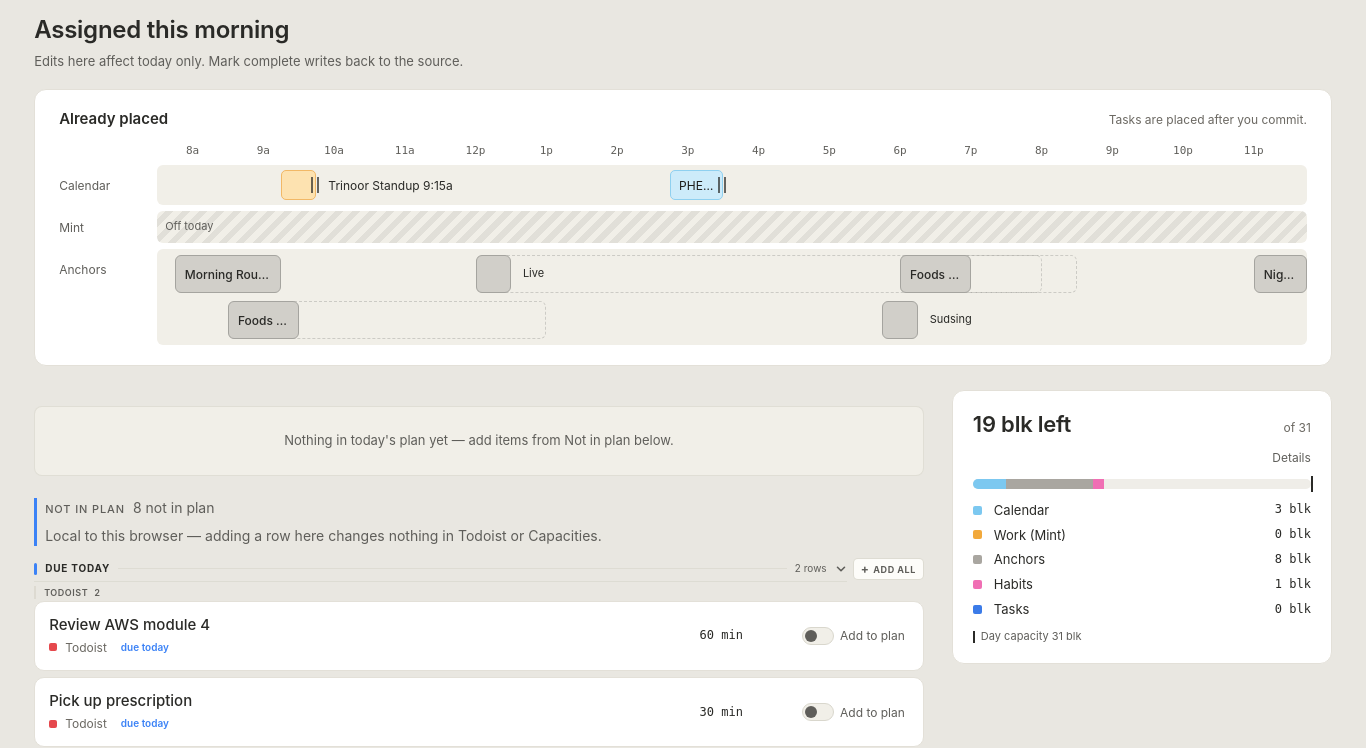
Test: U3a: an empty plan says how to fill it › clears the prompt as soon as one row joins the plan
Expected: the message "Nothing in today's plan yet — add items from Not in plan below." is shown, [34,406,924,476]
// The due-today tier's one-click settle: the smallest real way in.
What coordinates should you click on to do the following:
click the button "+ Add all"
I would click on:
 (888, 569)
Its box is [853,558,924,580].
(page scrolled)
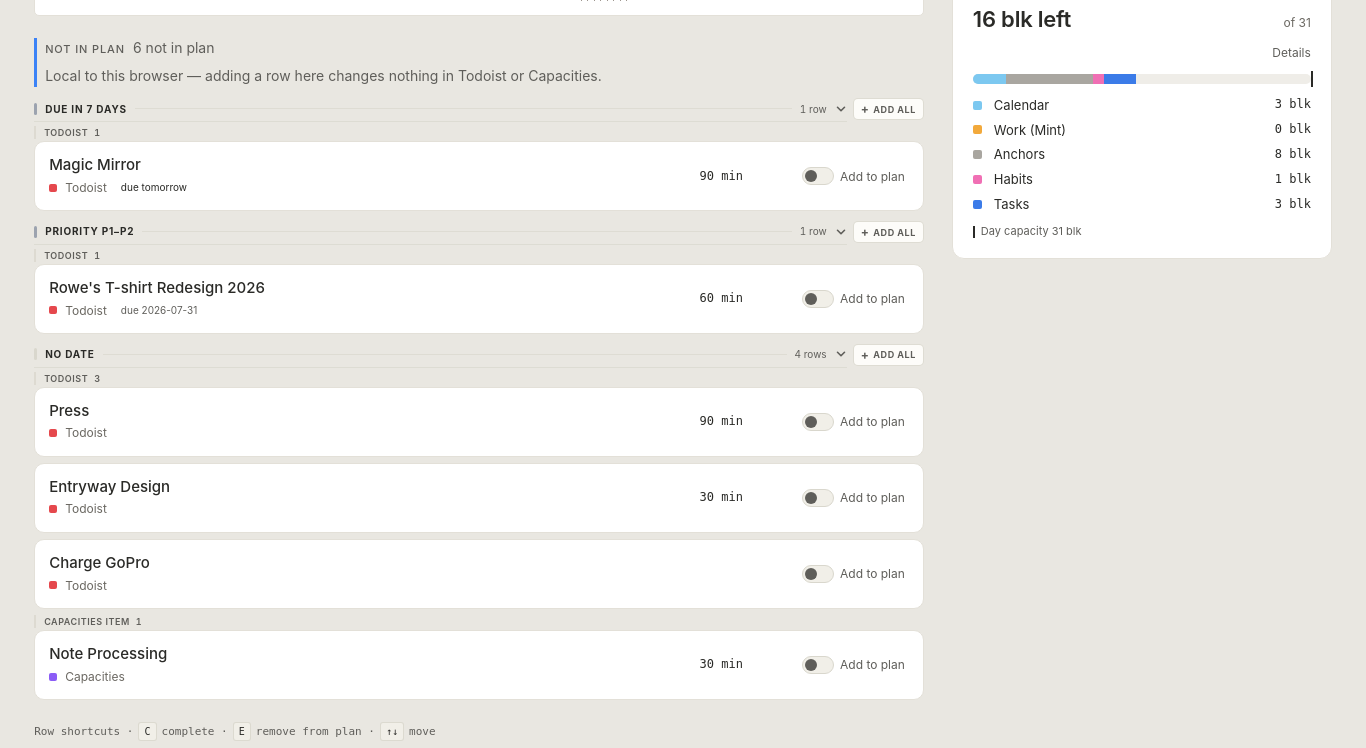
Now the element with id "unassigned-today" shows "6 not in plan", box [133,39,214,56]
